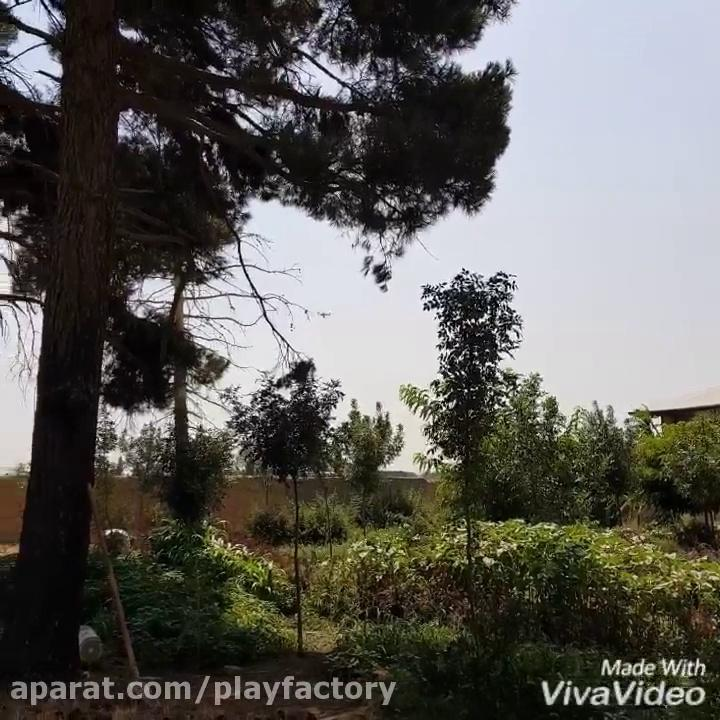drone: (313, 306, 333, 319)
